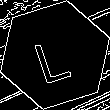L_N: (32, 26, 78, 84)
